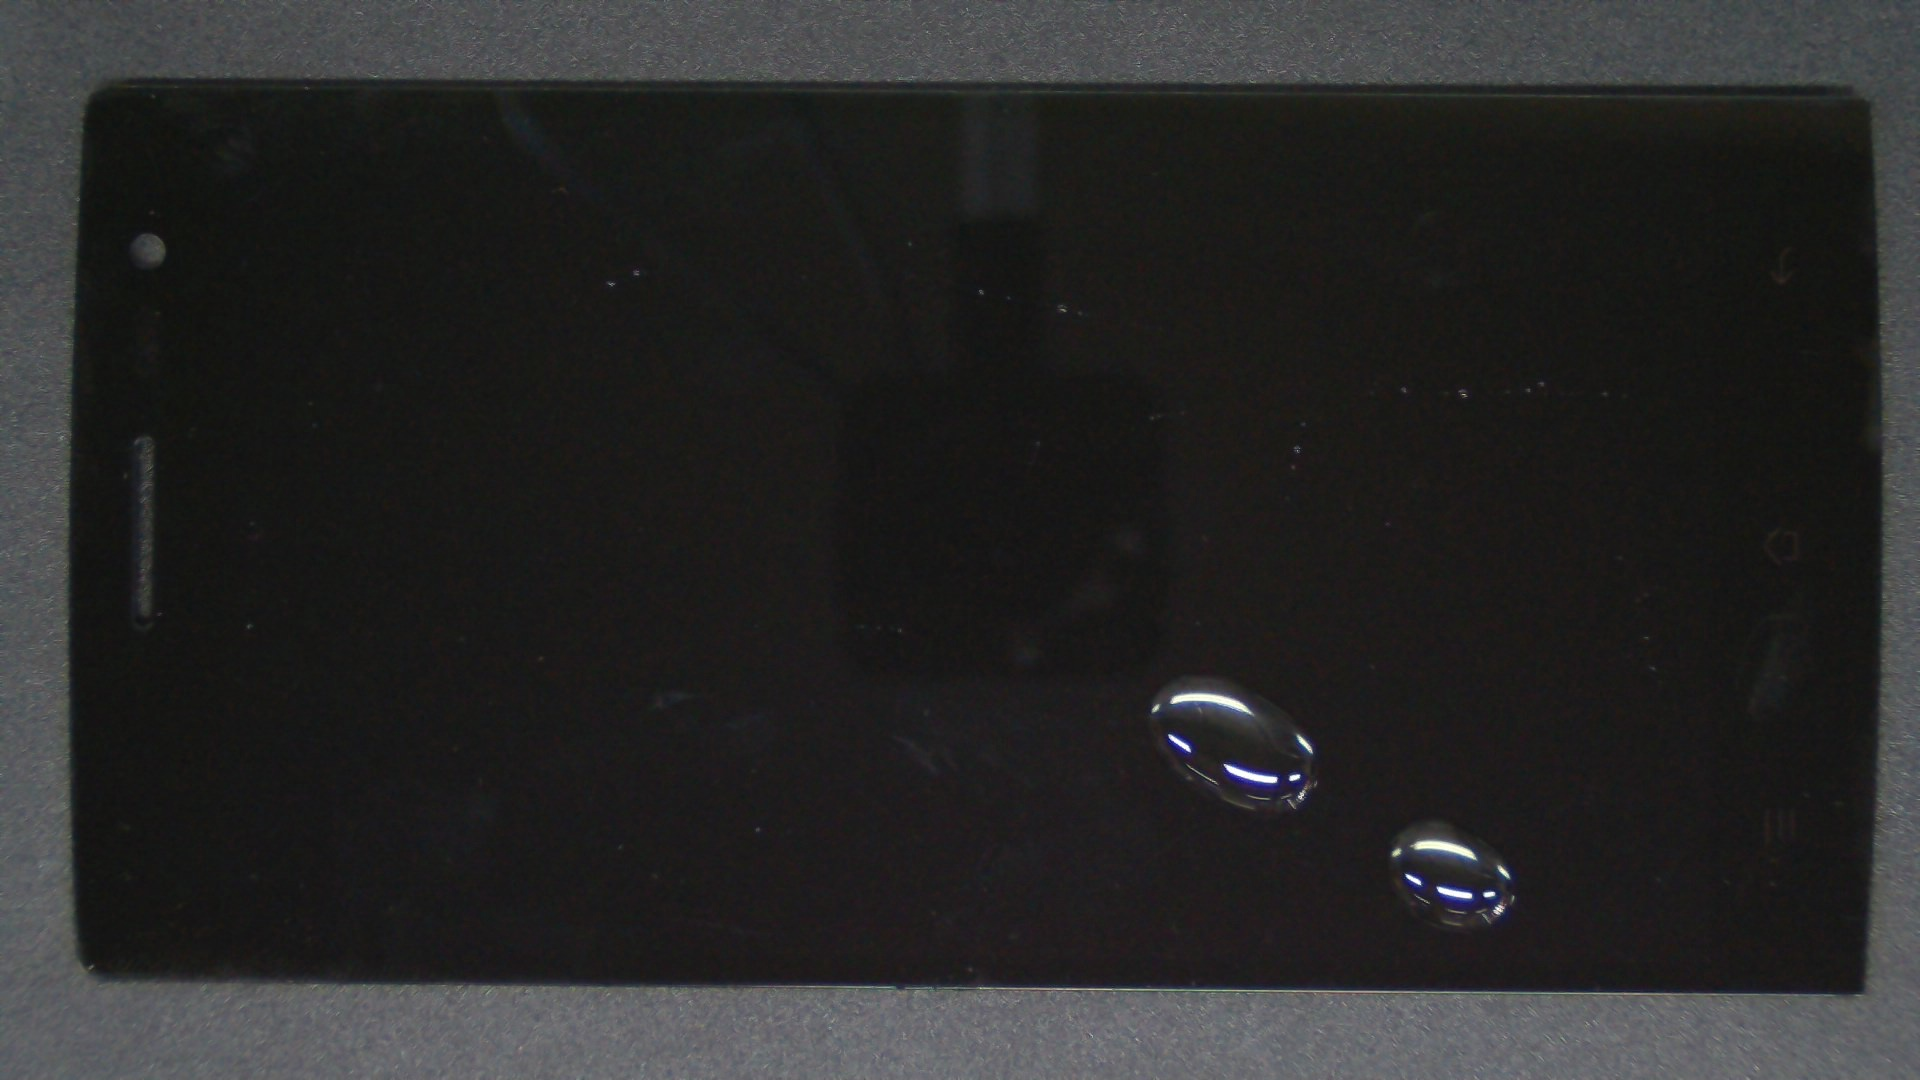oil: (712, 410, 1920, 1080), (596, 338, 1785, 1013)
